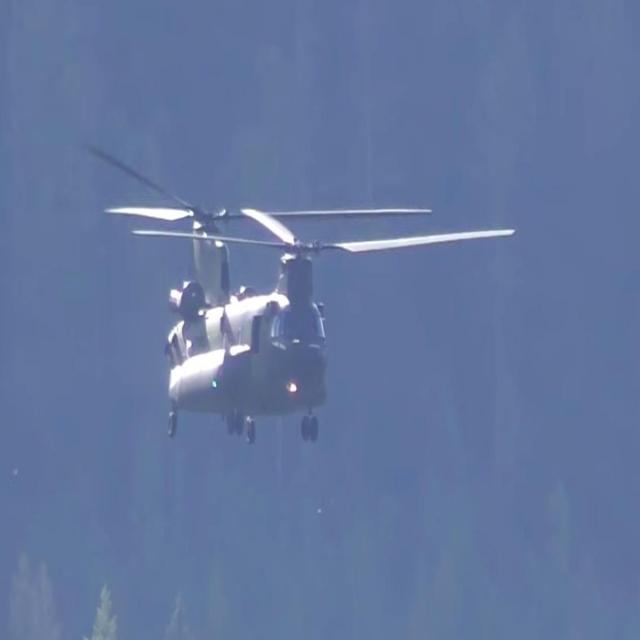Helicopter: (129, 218, 377, 466)
